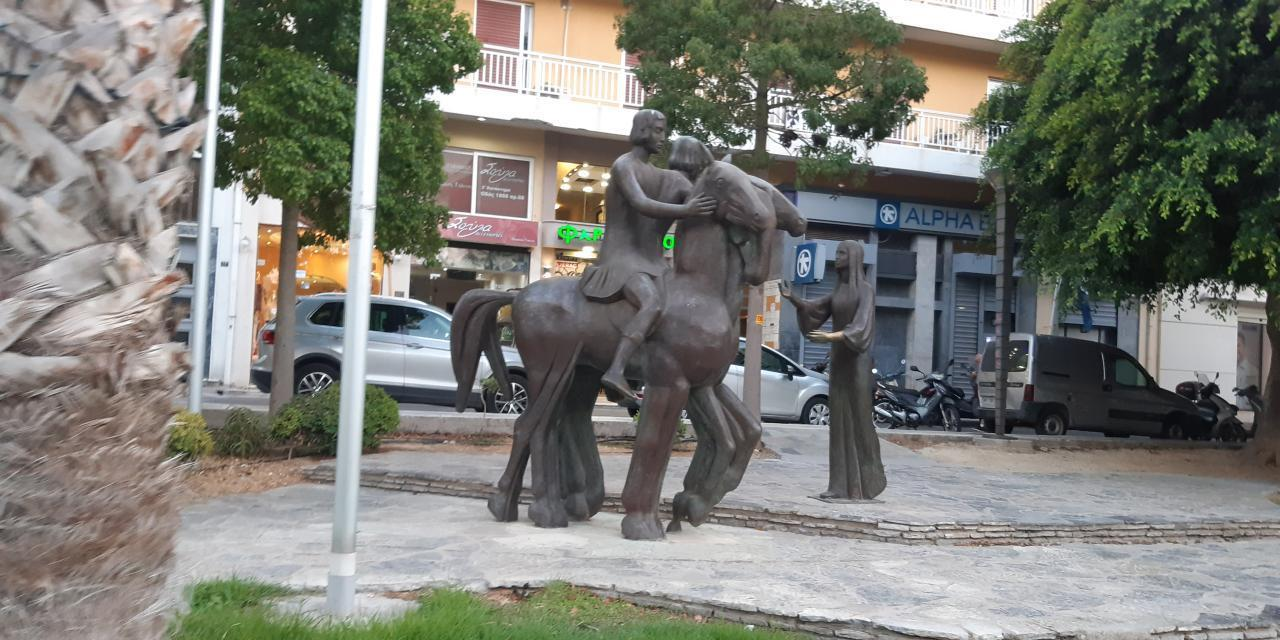Aretousa: (451, 111, 891, 544)
